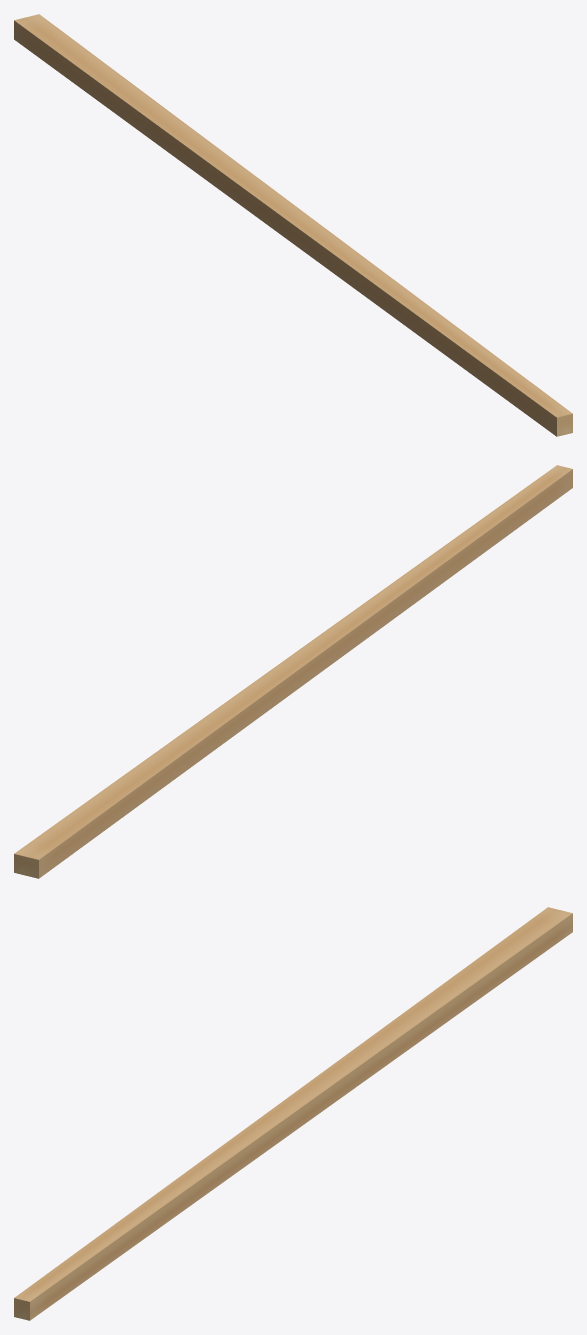
File: jsf_Rod_01.fbx
The picture shows the model from 3 angles, top to bottom: view 1: azimuth 30°, elevation 25°; view 2: azimuth 150°, elevation 25°; view 3: azimuth 330°, elevation 25°; orthographic projection.
Parts seen in each view (by area): view 1: jsf_Rod_01; view 2: jsf_Rod_01; view 3: jsf_Rod_01.
Part boxes in pixels (box(x1,y1,x2,y2)): jsf_Rod_01: box(14, 14, 572, 436); jsf_Rod_01: box(14, 465, 572, 878); jsf_Rod_01: box(14, 907, 572, 1320).
Size of the model in its own units: 0.5518 by 0.4 by 20.5.
